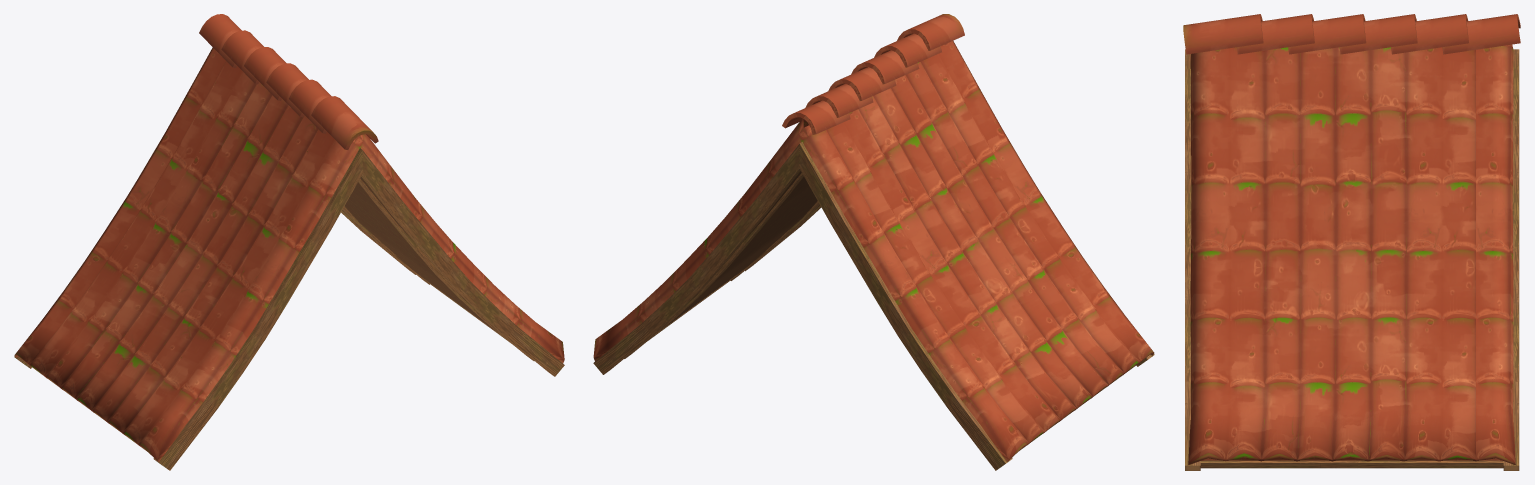
Rendered from Roof_RoundTiles_6x4.gltf.
The picture shows the model from 3 angles, left to right: view 1: azimuth 30°, elevation 25°; view 2: azimuth 150°, elevation 25°; view 3: azimuth 270°, elevation 25°; orthographic projection. The views are drawn at different scales.
Parts seen in each view (by area): view 1: Roof_RoundTiles_6x4; view 2: Roof_RoundTiles_6x4; view 3: Roof_RoundTiles_6x4.
Part boxes in pixels (x1,y1,x2,y2): Roof_RoundTiles_6x4: (14, 14, 564, 470); Roof_RoundTiles_6x4: (593, 14, 1154, 470); Roof_RoundTiles_6x4: (1183, 14, 1520, 470).
Bounding box in the file's own units: 8.25 × 5.67 × 4.99.
Materials: 2 (2 with a texture image).
